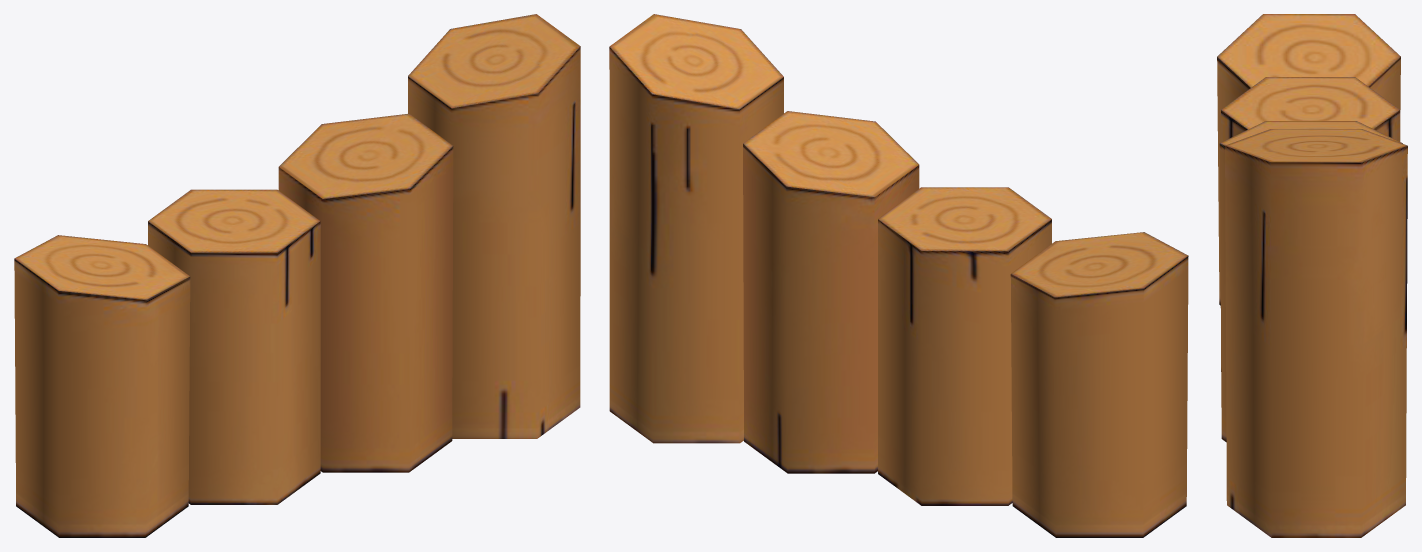
Rendered from muzhalan_003.fbx.
3 views of the same model, side by side, from view 1: azimuth 30°, elevation 25°; view 2: azimuth 150°, elevation 25°; view 3: azimuth 270°, elevation 25° (orthographic). The views are drawn at different scales.
Parts seen in each view (by area): view 1: muzhalan_003; view 2: muzhalan_003; view 3: muzhalan_003.
Part boxes in pixels (x1,y1,x2,y2): muzhalan_003: (14, 14, 580, 537); muzhalan_003: (609, 14, 1188, 537); muzhalan_003: (1217, 14, 1407, 537).
Size of the model in its own units: 45.83 by 30.11 by 13.86.
